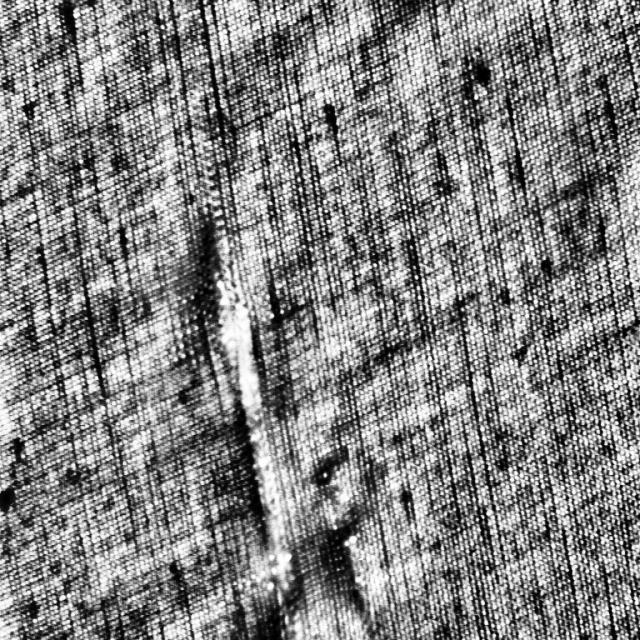gray stitch: (194, 200, 308, 639)
